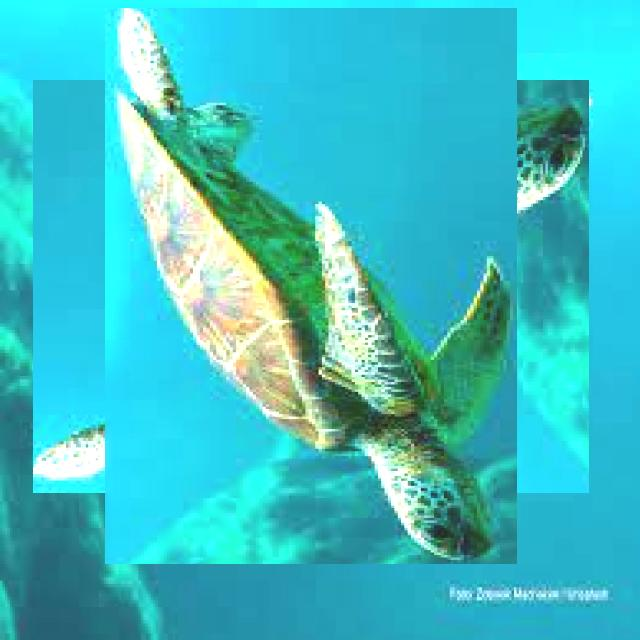Sea turtle: (69, 44, 553, 529)
